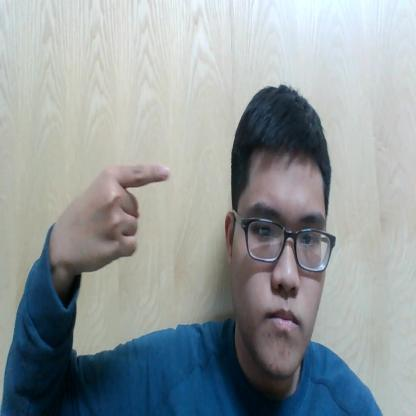left: (62, 149, 177, 287)
